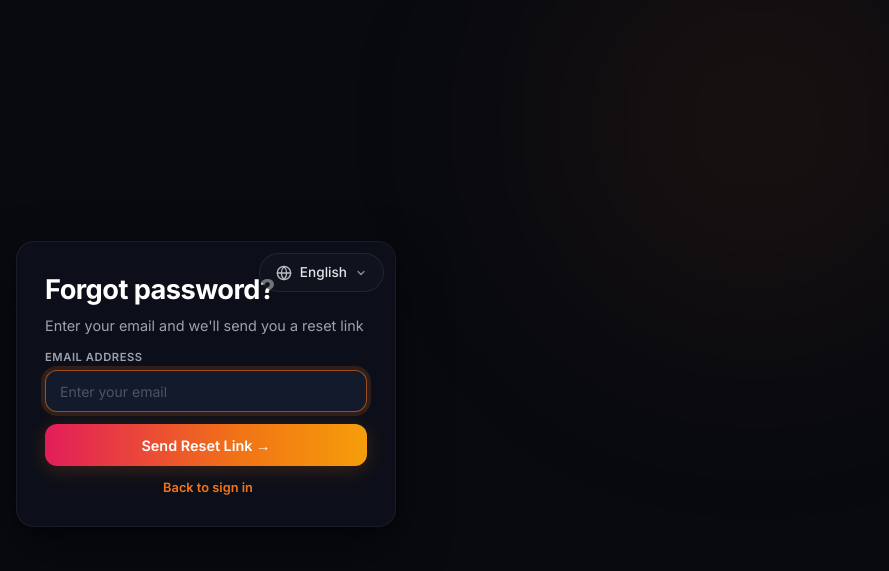
Scenario: ForgotPasswordPage › shows error when submitting empty email
Step 1. Click the button "Send Reset Link →" → (206, 445), box top-left (45, 424), bottom-right (367, 466)
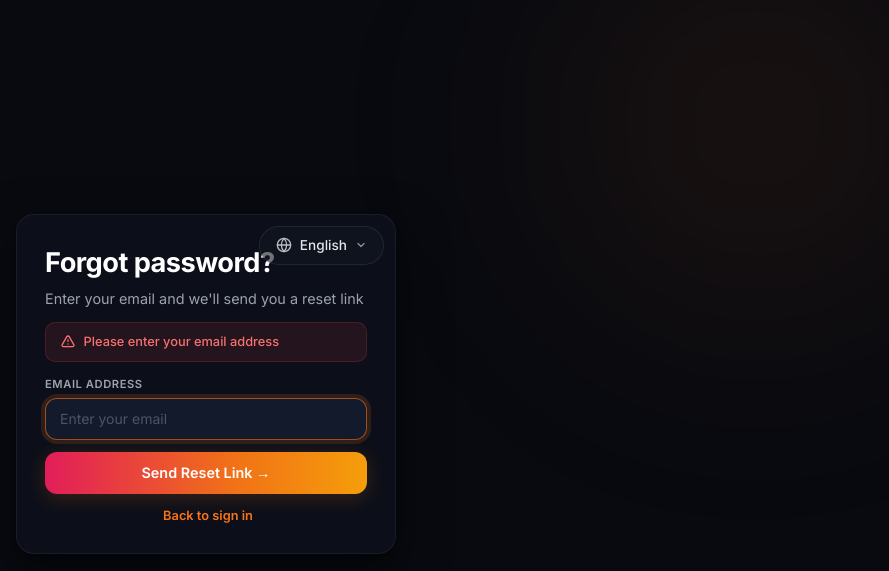
Now the text "Please enter your email address" is shown, box top-left (84, 332), bottom-right (279, 351)
